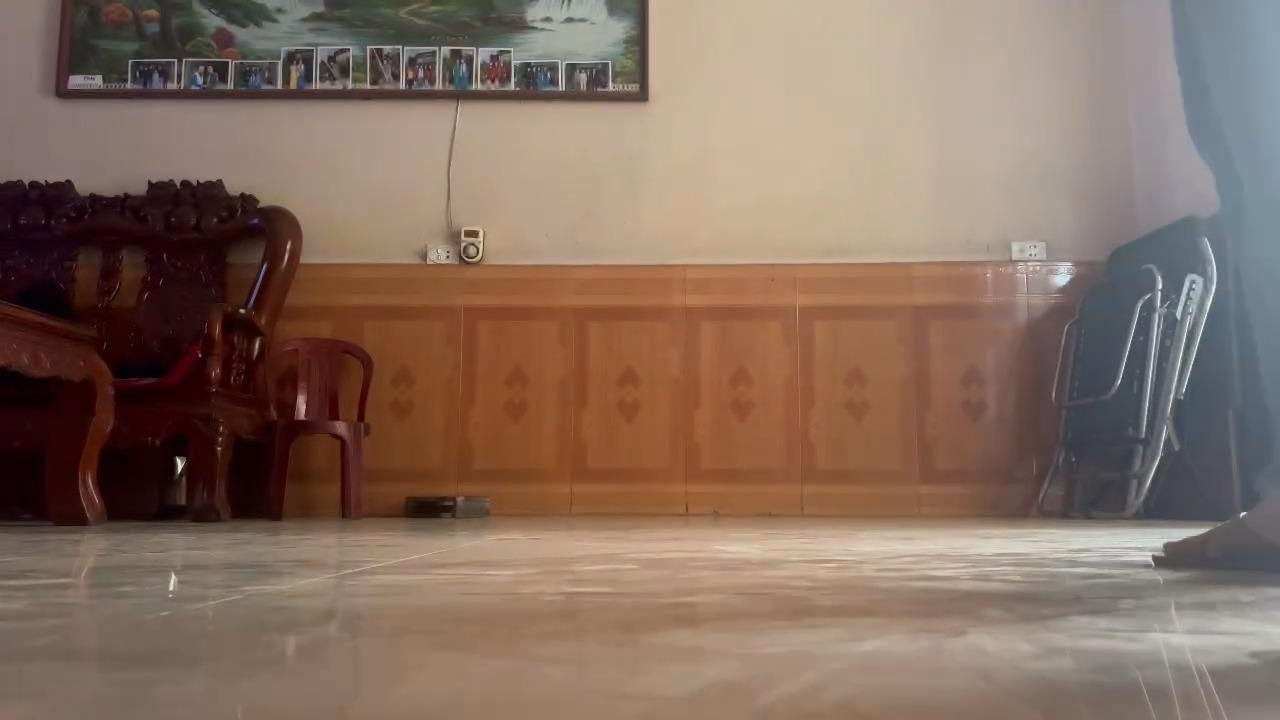no-boot: (1145, 500, 1280, 578)
